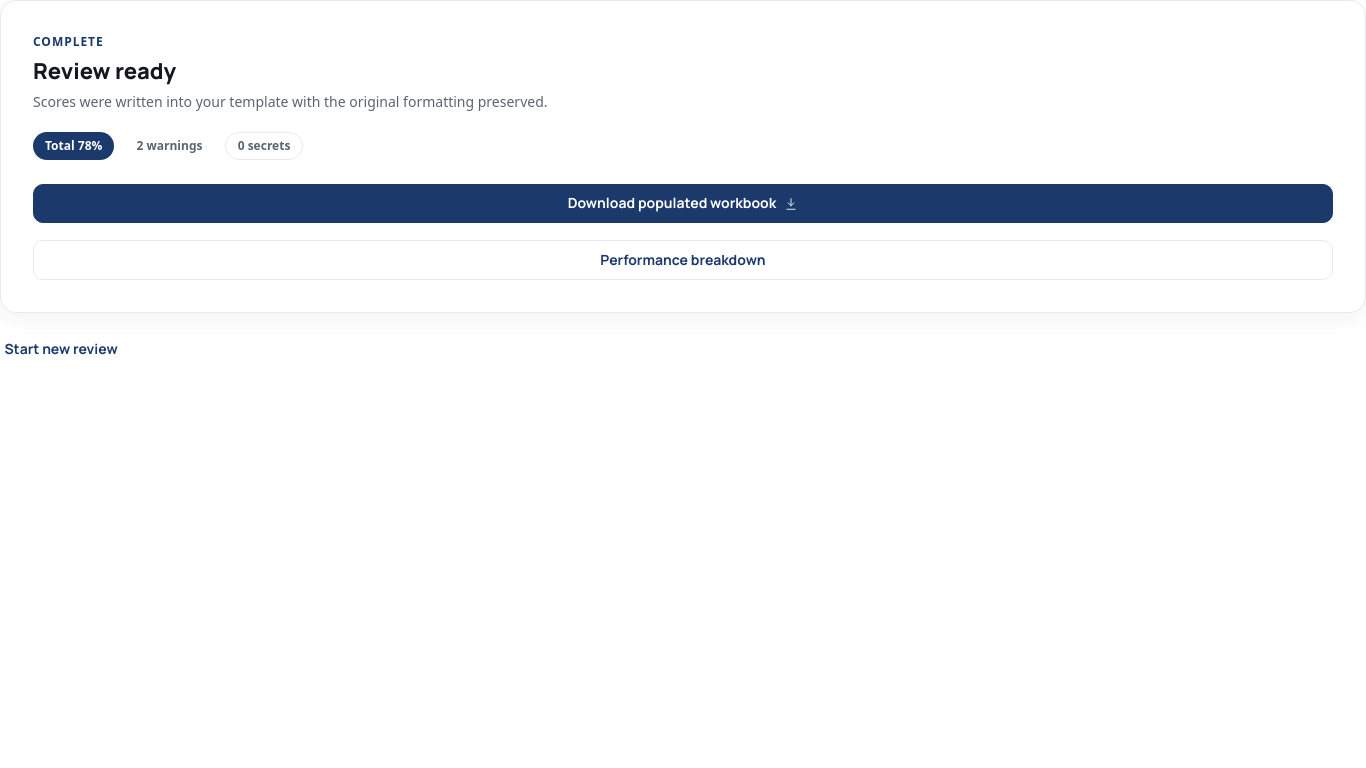
Test: combines structural warnings and lint issues into one warnings count and popup
Click the button "2 warnings": (170, 146) top-left (124, 132), bottom-right (214, 160)
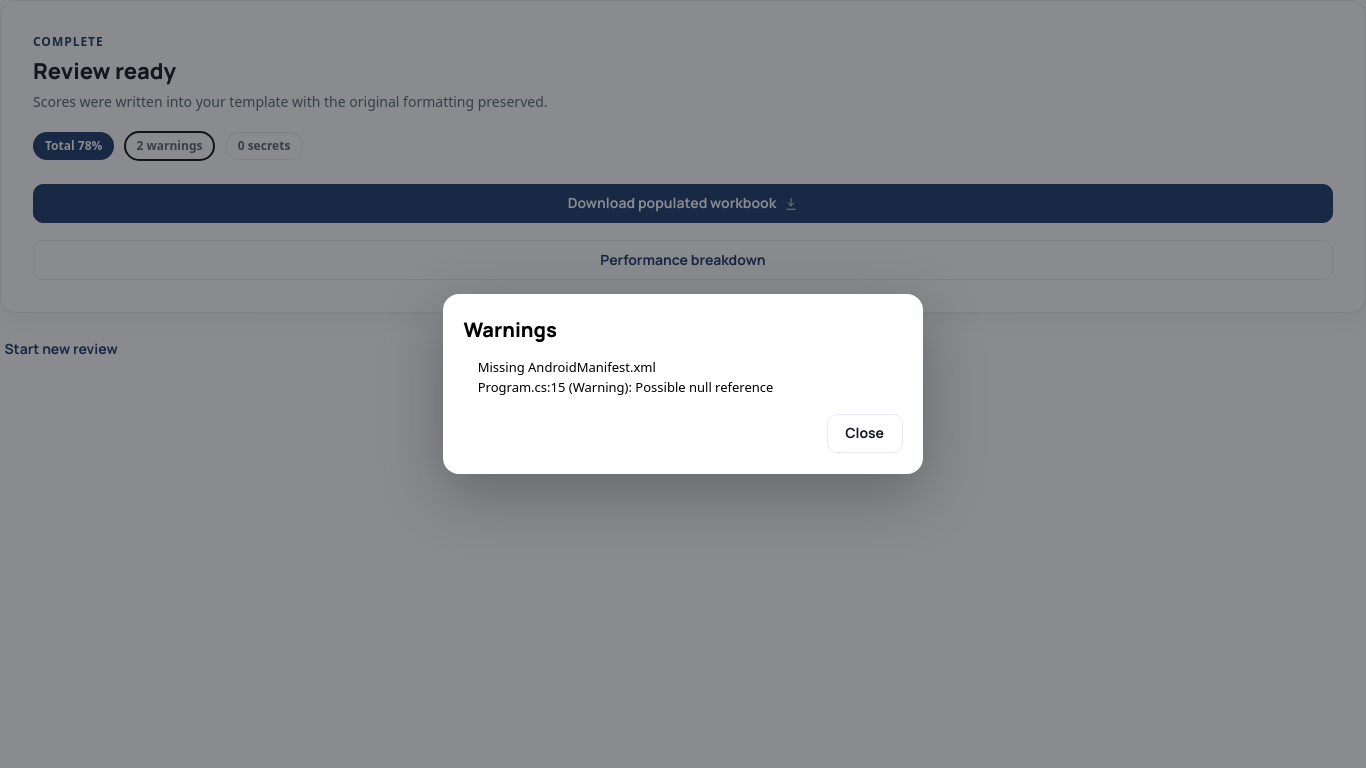
Result: the list item "Missing AndroidManifest.xml" is shown at top-left (478, 358), bottom-right (656, 376)
Result: the list item "Program.cs:15 (Warning): Possible null reference" is shown at top-left (478, 378), bottom-right (773, 396)
